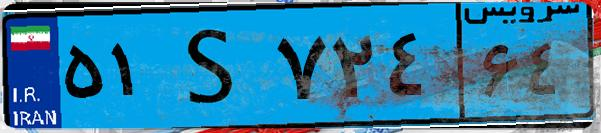1: (110, 28, 158, 98)
2: (330, 28, 385, 110)
4: (385, 28, 445, 110), (525, 38, 570, 115)
5: (57, 26, 110, 100)
6: (475, 38, 525, 113)
7: (270, 28, 330, 110)
S: (158, 12, 270, 120)
